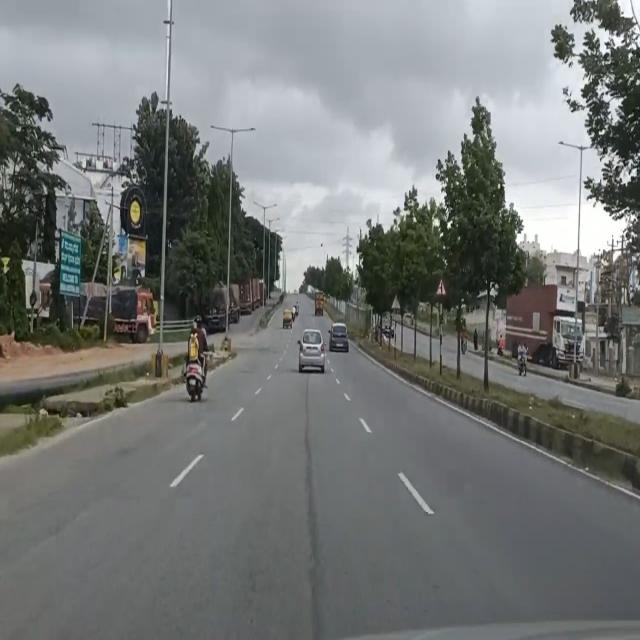bien_cam: (435, 276, 447, 297)
